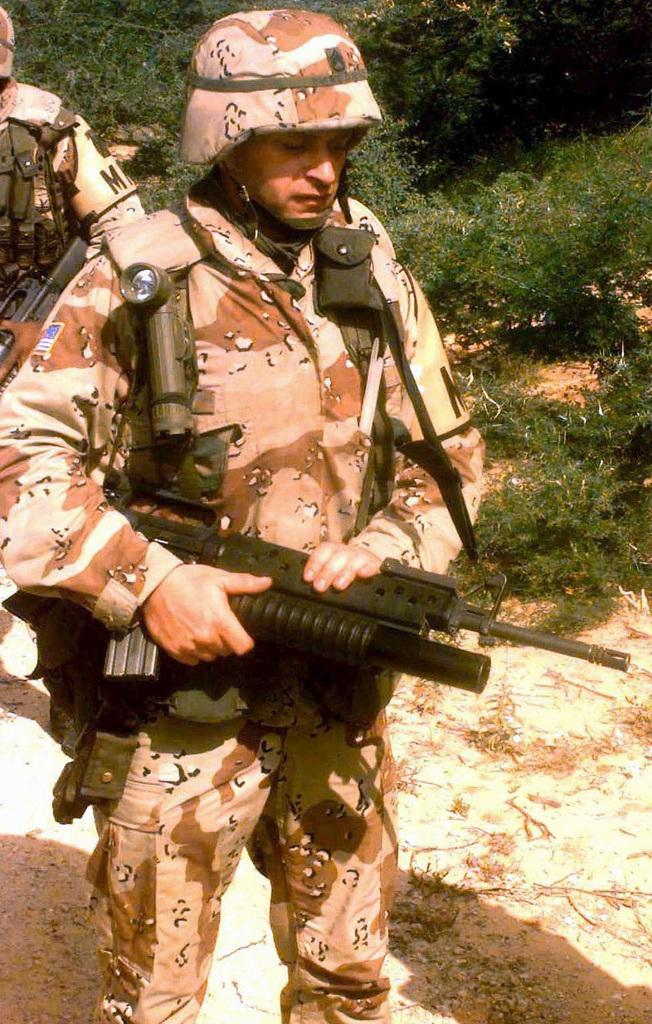Rifle: (102, 475, 633, 700)
